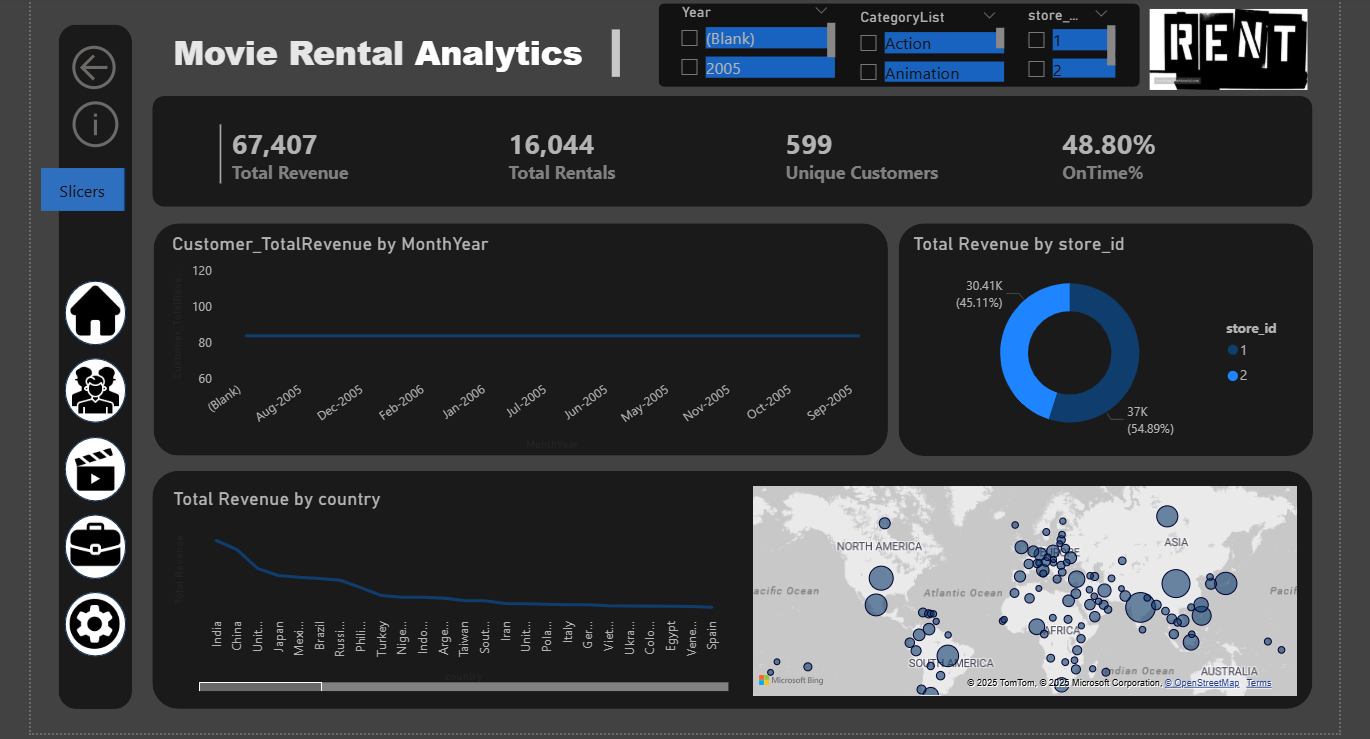

Layout of this report page (visuals, bound fields, positions):
{"tool":"powerbi","page":{"name":"Overview","canvas":[1280,720],"ordinal":16},"visuals":[{"type":"shape","box":[613.4,5.8,470.9,81.9],"z":0,"group":"g1"},{"type":"shape","box":[27.4,27.4,72,669.6],"z":0},{"type":"slicer","fields":{"Values":["Dim_Date.Year"]},"box":[623.5,1.4,168.5,83.4],"z":1000,"group":"g1"},{"type":"actionButton","title":"Slicer Toggle","box":[10.1,167,82.1,41.8],"z":1000},{"type":"slicer","fields":{"Values":["dim_film.CategoryList"]},"box":[797.7,5.9,158.4,81.9],"z":2000,"group":"g1"},{"type":"shape","box":[33,277.6,60,63],"z":2000},{"type":"slicer","fields":{"Values":["dim_store.store_id"]},"box":[961.6,4.4,103.7,80.4],"z":3000,"group":"g1"},{"type":"shape","box":[119.1,96.9,1135,108.7],"z":3000},{"type":"textbox","box":[133.9,27.4,446.4,63.4],"z":4000},{"type":"shape","box":[119.5,221.8,718.6,227.5],"z":5000},{"type":"shape","box":[119.1,463.4,1135,233],"z":6000},{"type":"shape","box":[848.3,221.2,405.8,227.8],"z":7000},{"type":"multiRowCard","fields":{"Values":["Calculate Measure.Total Revenue","Calculate Measure.Total Rentals","dim_customer.customer_id","Calculate Measure.OnTime%"]},"box":[180,120,1100,73],"z":8000},{"type":"lineChart","fields":{"Category":["Dim_Date.MonthYear"],"Y":["Calculate Measure.Customer_TotalRevenue"]},"box":[133.6,231.1,705.3,217.6],"z":9000},{"type":"donutChart","fields":{"Category":["dim_staff.store_id"],"Y":["Calculate Measure.Total Revenue"]},"box":[858.8,231.7,384.9,212.1],"z":10000},{"type":"map","fields":{"Size":["Calculate Measure.Revenue By Country"],"Category":["dim_customer.country"]},"box":[702.3,472.7,541.7,214.6],"z":11000},{"type":"lineChart","fields":{"Y":["Calculate Measure.Total Revenue"],"Category":["dim_customer.country"]},"box":[133.9,481,553,203],"z":12000},{"type":"image","box":[30,277.6,64.5,58.5],"z":13000},{"type":"shape","box":[33,353.8,60,63],"z":14000},{"type":"shape","box":[33,429.9,60,63],"z":15000},{"type":"shape","box":[33,506.1,60,63],"z":16000},{"type":"shape","box":[33,582.2,60,63],"z":17000},{"type":"image","box":[33,352.6,60,64.5],"z":18000},{"type":"image","box":[31.5,436.7,60,51],"z":19000},{"type":"image","box":[33,505.7,60,58.5],"z":20000},{"type":"image","box":[33,580.7,58.5,64.5],"z":21000},{"type":"actionButton","title":"Slicer Toggle","box":[10.1,167,80.6,41.8],"z":22000},{"type":"group","id":"g1","title":"Slicer panel","box":[613.4,1.4,470.9,86.4],"z":23000},{"type":"image","box":[1090.1,5.8,164.2,90.7],"z":24000},{"type":"actionButton","box":[34.6,41.8,57.6,54.7],"z":25000},{"type":"actionButton","box":[34.6,92.2,57.6,66.2],"z":26000}]}

Visuals, with their boxes on the page's 1280x720 design canvas (x1, y1, x2, y2). These are canvas units, not pixel positions in the 1370x739 screenshot, which may show the page scaled, cropped or inside an application window:
shape: bbox=[613, 6, 1084, 88]
shape: bbox=[27, 27, 99, 697]
slicer - Dim_Date.Year: bbox=[624, 1, 792, 85]
"Slicer Toggle" actionButton: bbox=[10, 167, 92, 209]
slicer - dim_film.CategoryList: bbox=[798, 6, 956, 88]
shape: bbox=[33, 278, 93, 341]
slicer - dim_store.store_id: bbox=[962, 4, 1065, 85]
shape: bbox=[119, 97, 1254, 206]
textbox: bbox=[134, 27, 580, 91]
shape: bbox=[120, 222, 838, 449]
shape: bbox=[119, 463, 1254, 696]
shape: bbox=[848, 221, 1254, 449]
multiRowCard - Calculate Measure.Total Revenue x Calculate Measure.Total Rentals: bbox=[180, 120, 1280, 193]
lineChart - Dim_Date.MonthYear x Calculate Measure.Customer_TotalRevenue: bbox=[134, 231, 839, 449]
donutChart - dim_staff.store_id x Calculate Measure.Total Revenue: bbox=[859, 232, 1244, 444]
map - Calculate Measure.Revenue By Country x dim_customer.country: bbox=[702, 473, 1244, 687]
lineChart - Calculate Measure.Total Revenue x dim_customer.country: bbox=[134, 481, 687, 684]
image: bbox=[30, 278, 94, 336]
shape: bbox=[33, 354, 93, 417]
shape: bbox=[33, 430, 93, 493]
shape: bbox=[33, 506, 93, 569]
shape: bbox=[33, 582, 93, 645]
image: bbox=[33, 353, 93, 417]
image: bbox=[32, 437, 92, 488]
image: bbox=[33, 506, 93, 564]
image: bbox=[33, 581, 92, 645]
"Slicer Toggle" actionButton: bbox=[10, 167, 91, 209]
"Slicer panel" group: bbox=[613, 1, 1084, 88]
image: bbox=[1090, 6, 1254, 96]
actionButton: bbox=[35, 42, 92, 96]
actionButton: bbox=[35, 92, 92, 158]
